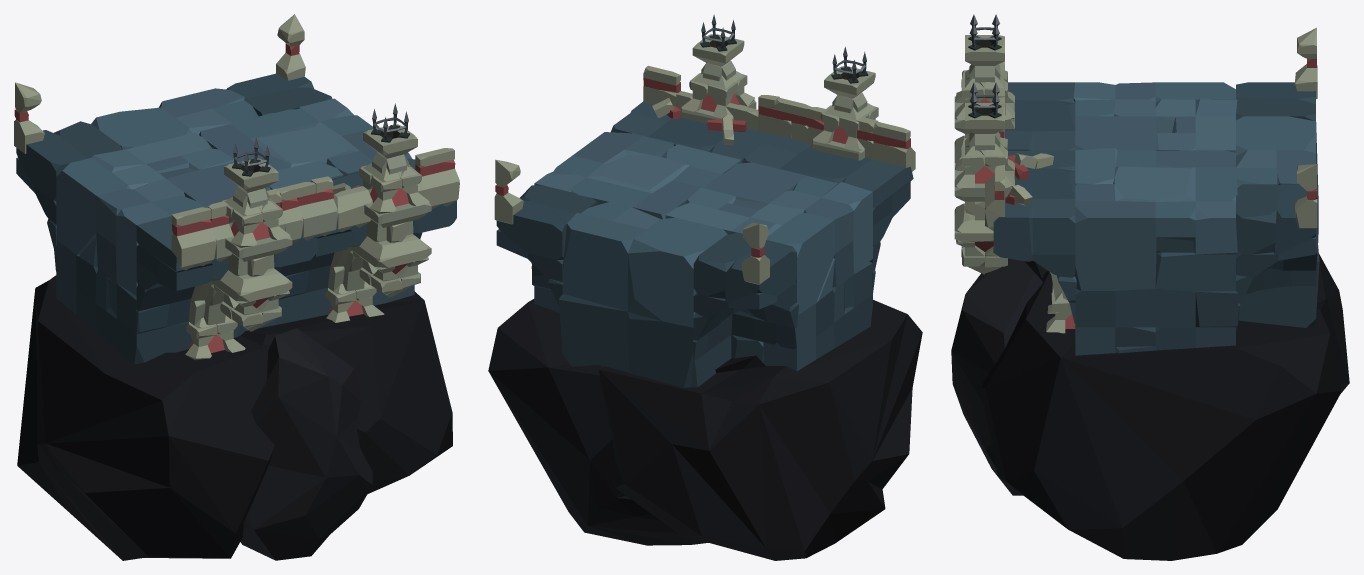
Rendered from hallway_T_01.fbx.
3 views of the same model, side by side, from view 1: azimuth 30°, elevation 25°; view 2: azimuth 150°, elevation 25°; view 3: azimuth 270°, elevation 25° (orthographic). The views are drawn at different scales.
Parts seen in each view (by area): view 1: hallway_T_01; view 2: hallway_T_01; view 3: hallway_T_01.
Part boxes in pixels (x1,y1,x2,y2): hallway_T_01: (14,14,459,560); hallway_T_01: (488,14,922,560); hallway_T_01: (951,14,1349,560).
Bounding box in the file's own units: 1069 × 1300 × 992.
